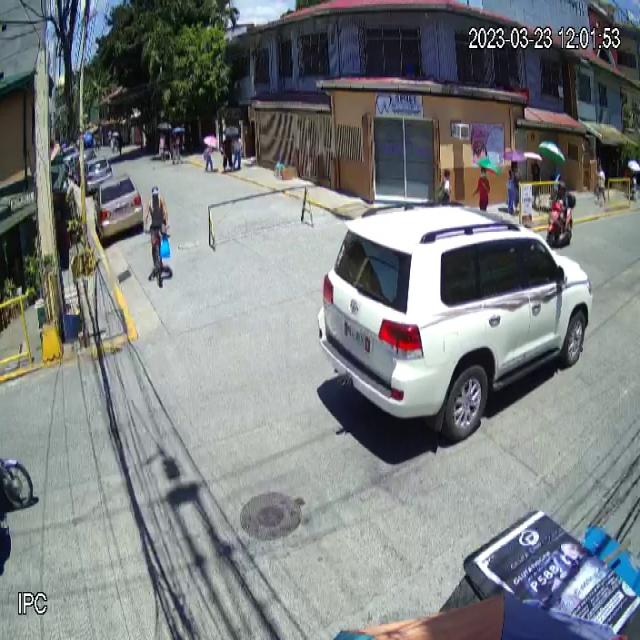Car: (320, 197, 591, 442), (93, 172, 143, 246)
